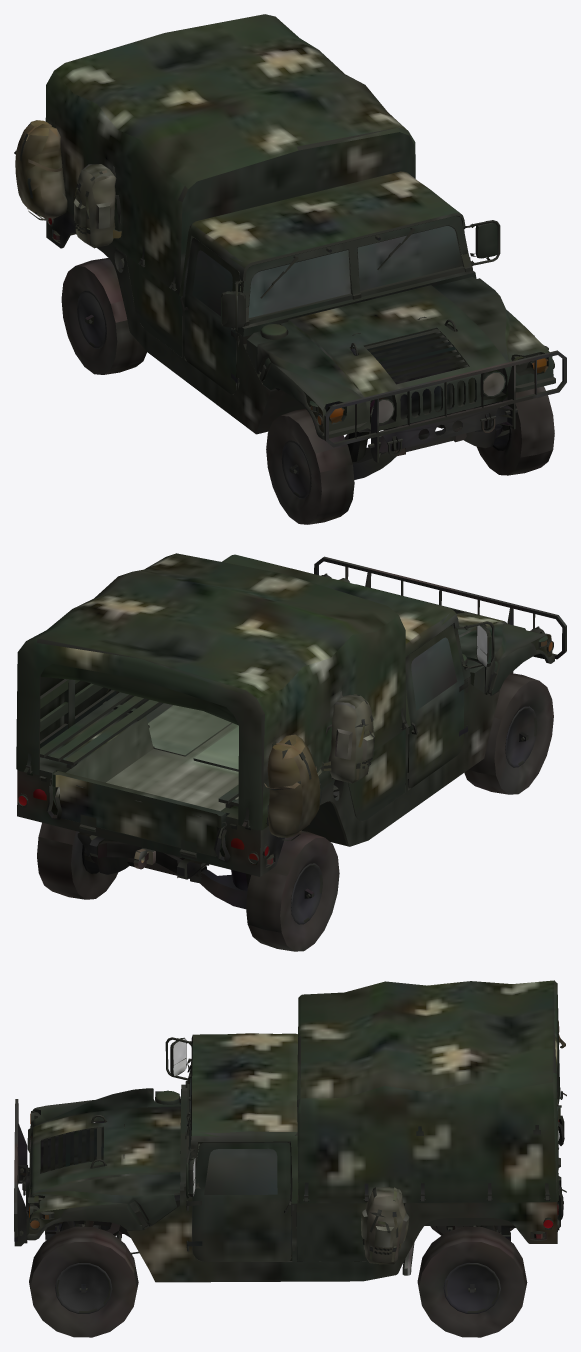
File: humvee.glb
The picture shows the model from 3 angles, top to bottom: view 1: azimuth 30°, elevation 25°; view 2: azimuth 150°, elevation 25°; view 3: azimuth 270°, elevation 25°; orthographic projection. The views are drawn at different scales.
Visible parts, largest first — view 1: vehicle; view 2: vehicle; view 3: vehicle.
Part boxes in pixels (x1,y1,x2,y2): vehicle: (14, 14, 566, 524); vehicle: (16, 553, 566, 951); vehicle: (14, 980, 566, 1337).
Bounding box in the file's own units: 2.75 × 2.42 × 4.57.
Materials: 1 (1 with a texture image).
